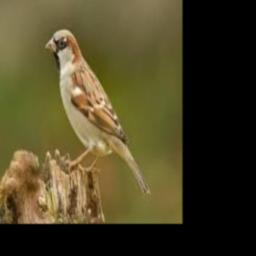Sparrow: (45, 29, 151, 197)
